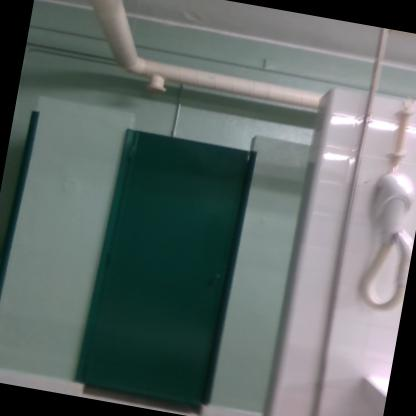closed: (72, 111, 280, 408)
